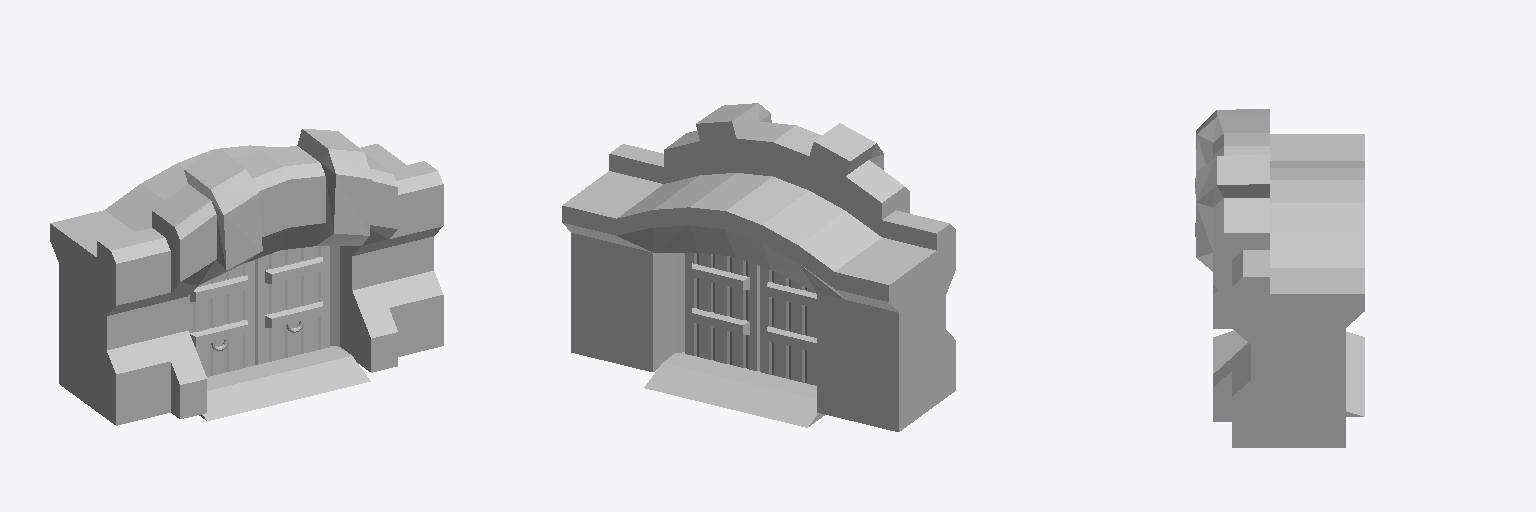
File: wall_gate.obj
3 renders of one model, left to right at view 1: azimuth 30°, elevation 25°; view 2: azimuth 150°, elevation 25°; view 3: azimuth 270°, elevation 25°, orthographic.
Parts seen in each view (by area): view 1: wall_straight_gate, wall_straight_gate_door_left, wall_straight_gate_door_right; view 2: wall_straight_gate, wall_straight_gate_door_left, wall_straight_gate_door_right; view 3: wall_straight_gate.
Part boxes in pixels (left/top/right/bottom): wall_straight_gate: left=50, top=129, right=443, bottom=425; wall_straight_gate_door_left: left=255, top=246, right=329, bottom=364; wall_straight_gate_door_right: left=189, top=260, right=254, bottom=376; wall_straight_gate: left=562, top=103, right=955, bottom=431; wall_straight_gate_door_left: left=685, top=253, right=759, bottom=370; wall_straight_gate_door_right: left=760, top=266, right=816, bottom=385; wall_straight_gate: left=1195, top=109, right=1364, bottom=447.
Bounding box in the file's own units: 2 × 1.41 × 0.8956.